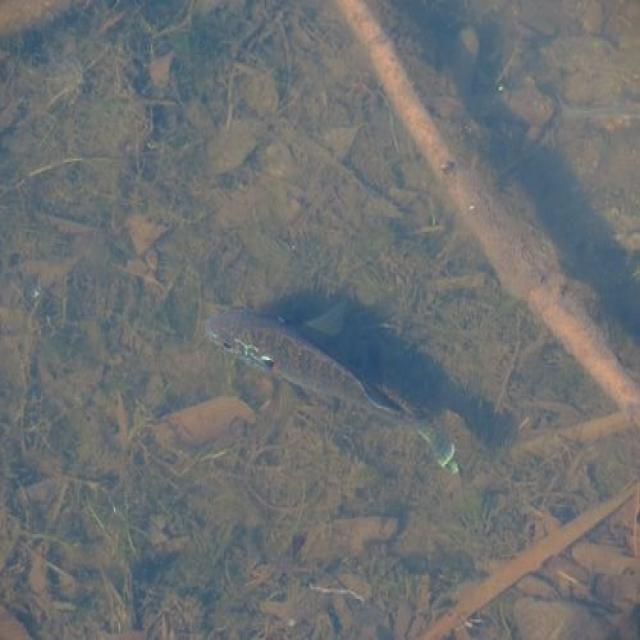Gunes Levregi: (200, 307, 476, 485)
